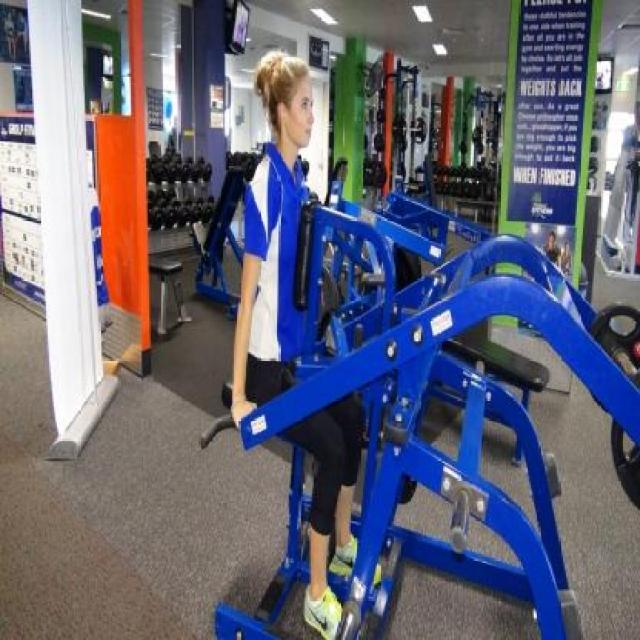seated dip machine: (201, 200, 640, 640)
